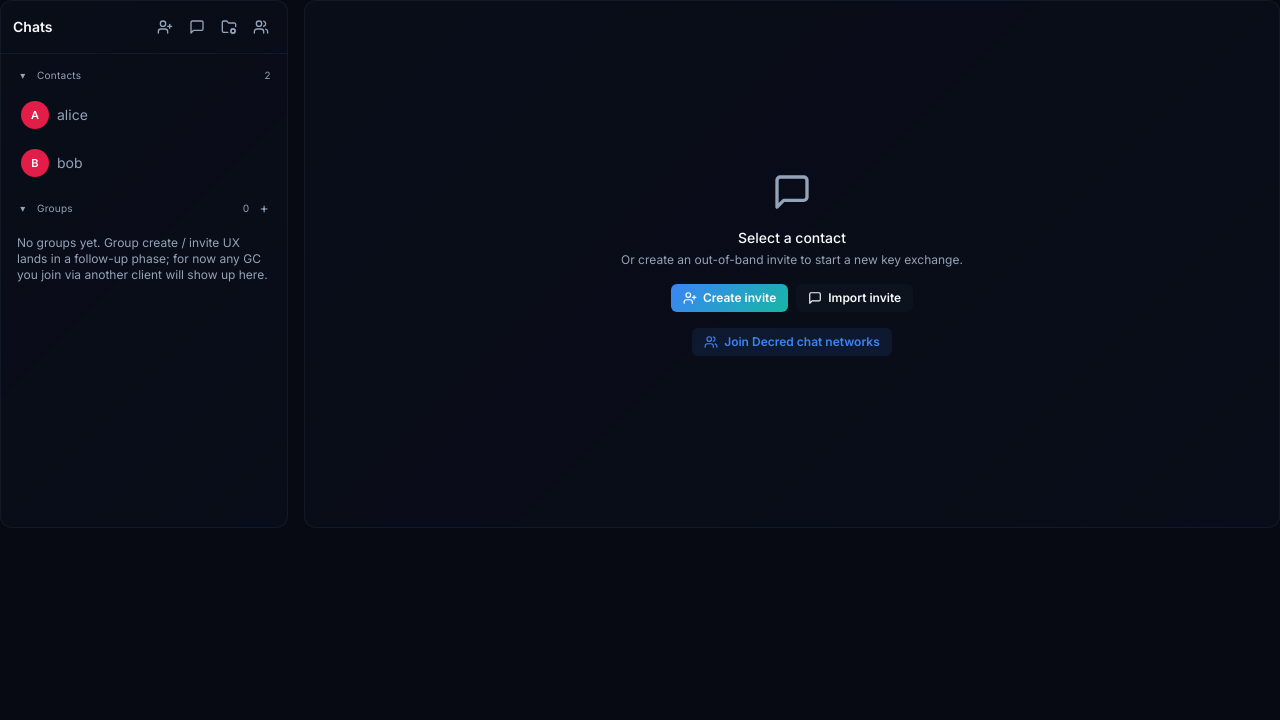
Test case: keeps a late history reply out of the thread opened after it
Click the text "alice" at (72, 114), box left=57, top=106, right=88, bottom=123
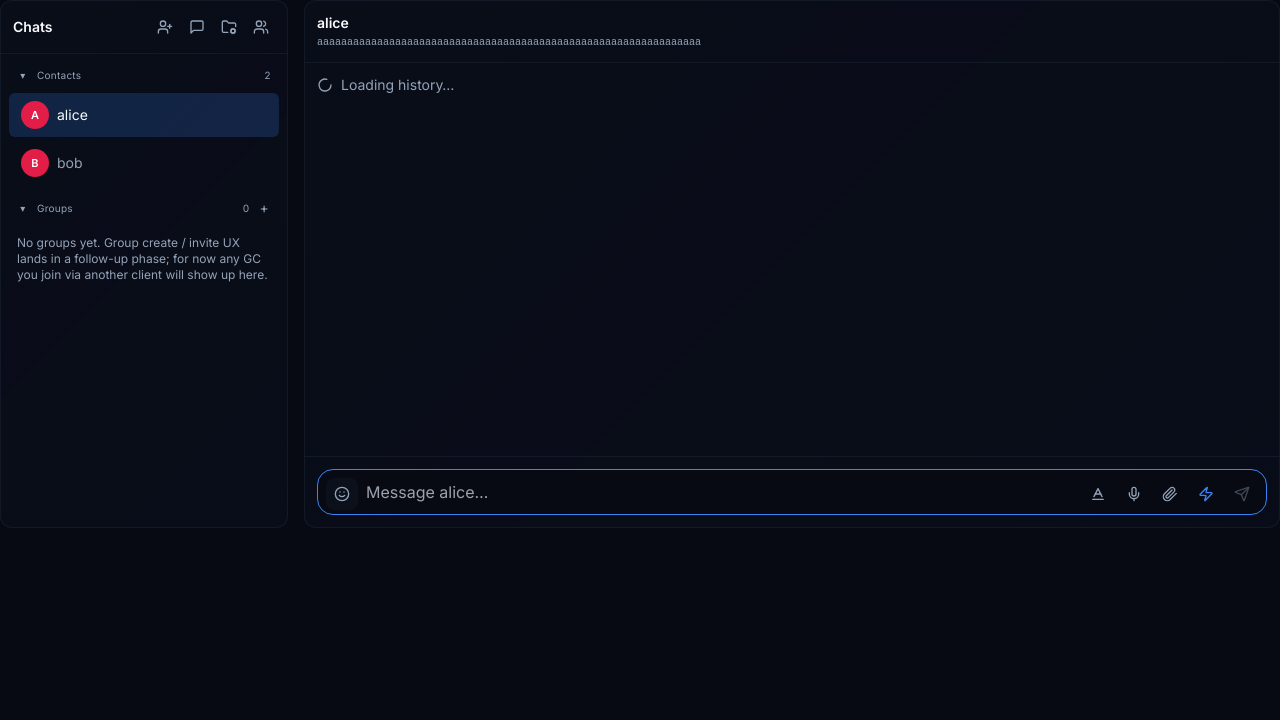
Click the text "bob" at (70, 162), box left=57, top=154, right=82, bottom=171
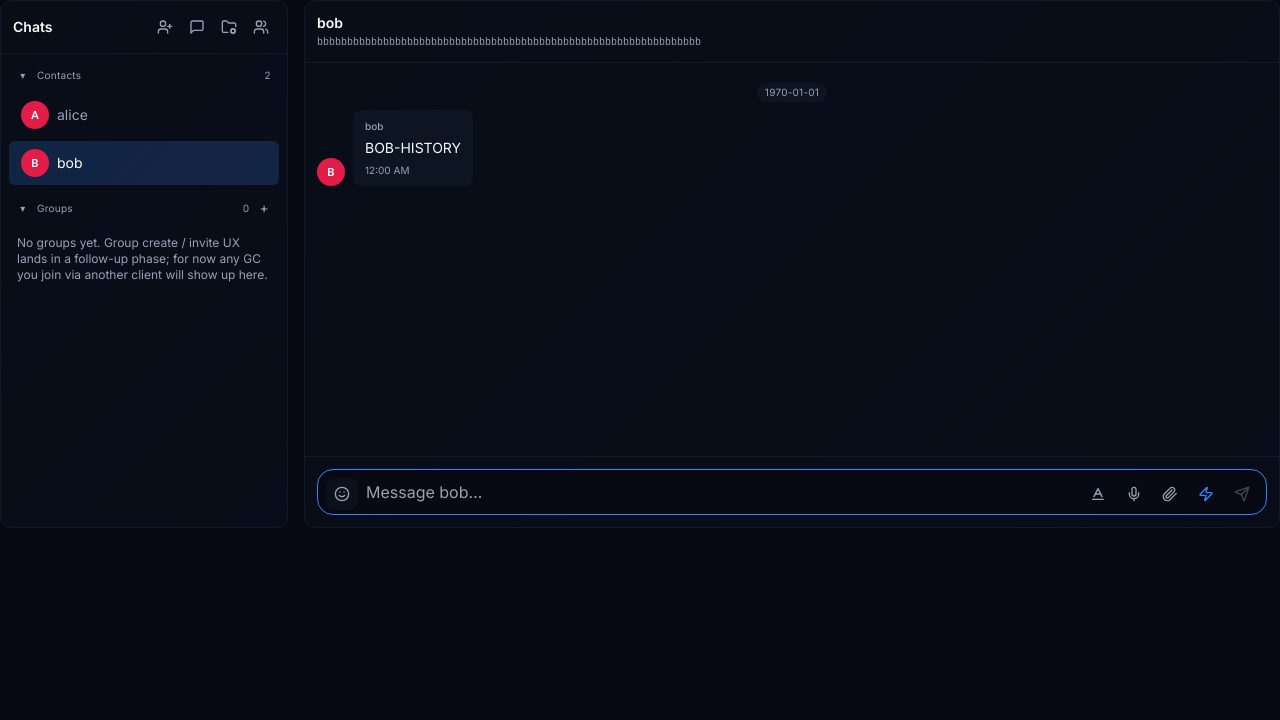
expect the text "BOB-HISTORY" is shown: met, box left=365, top=138, right=461, bottom=158
